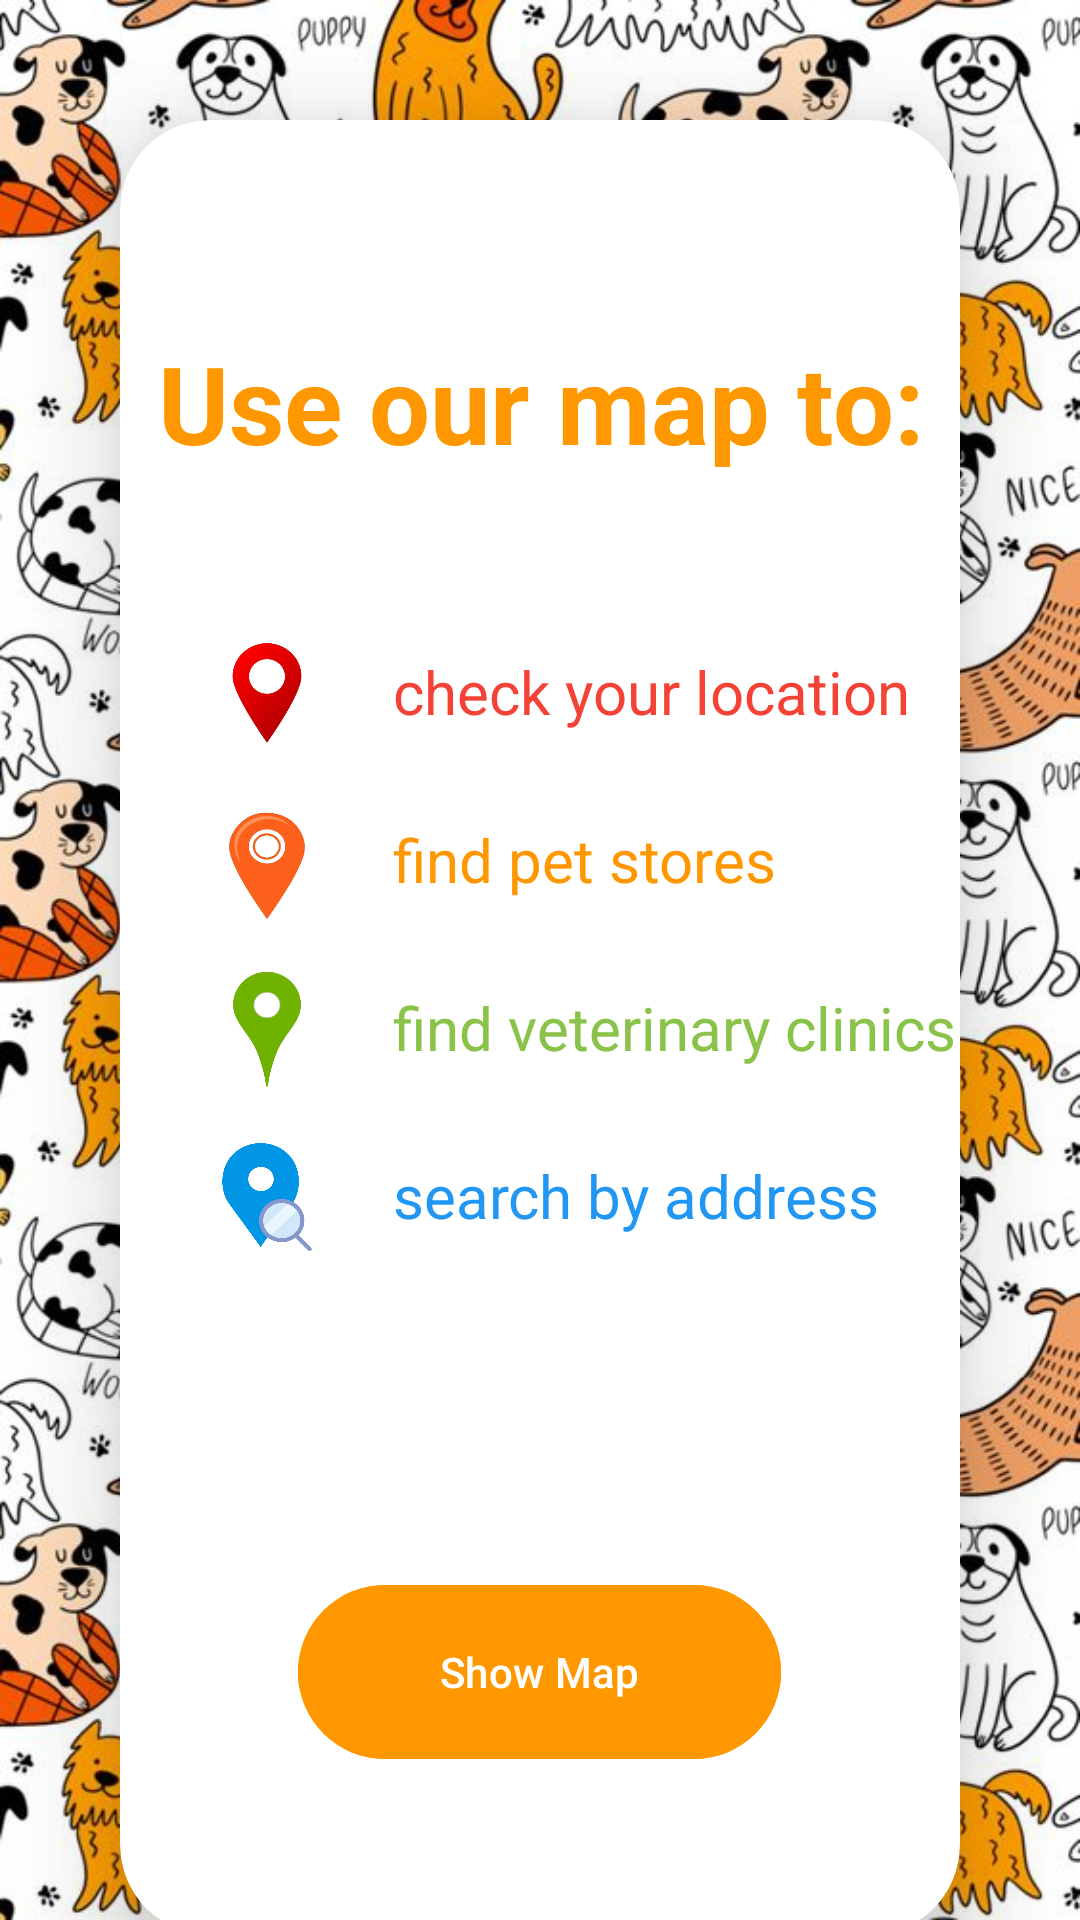

Where to tap for icons on this 1080*1920 app screen, as [x,y]:
mylocation: [267,693]
